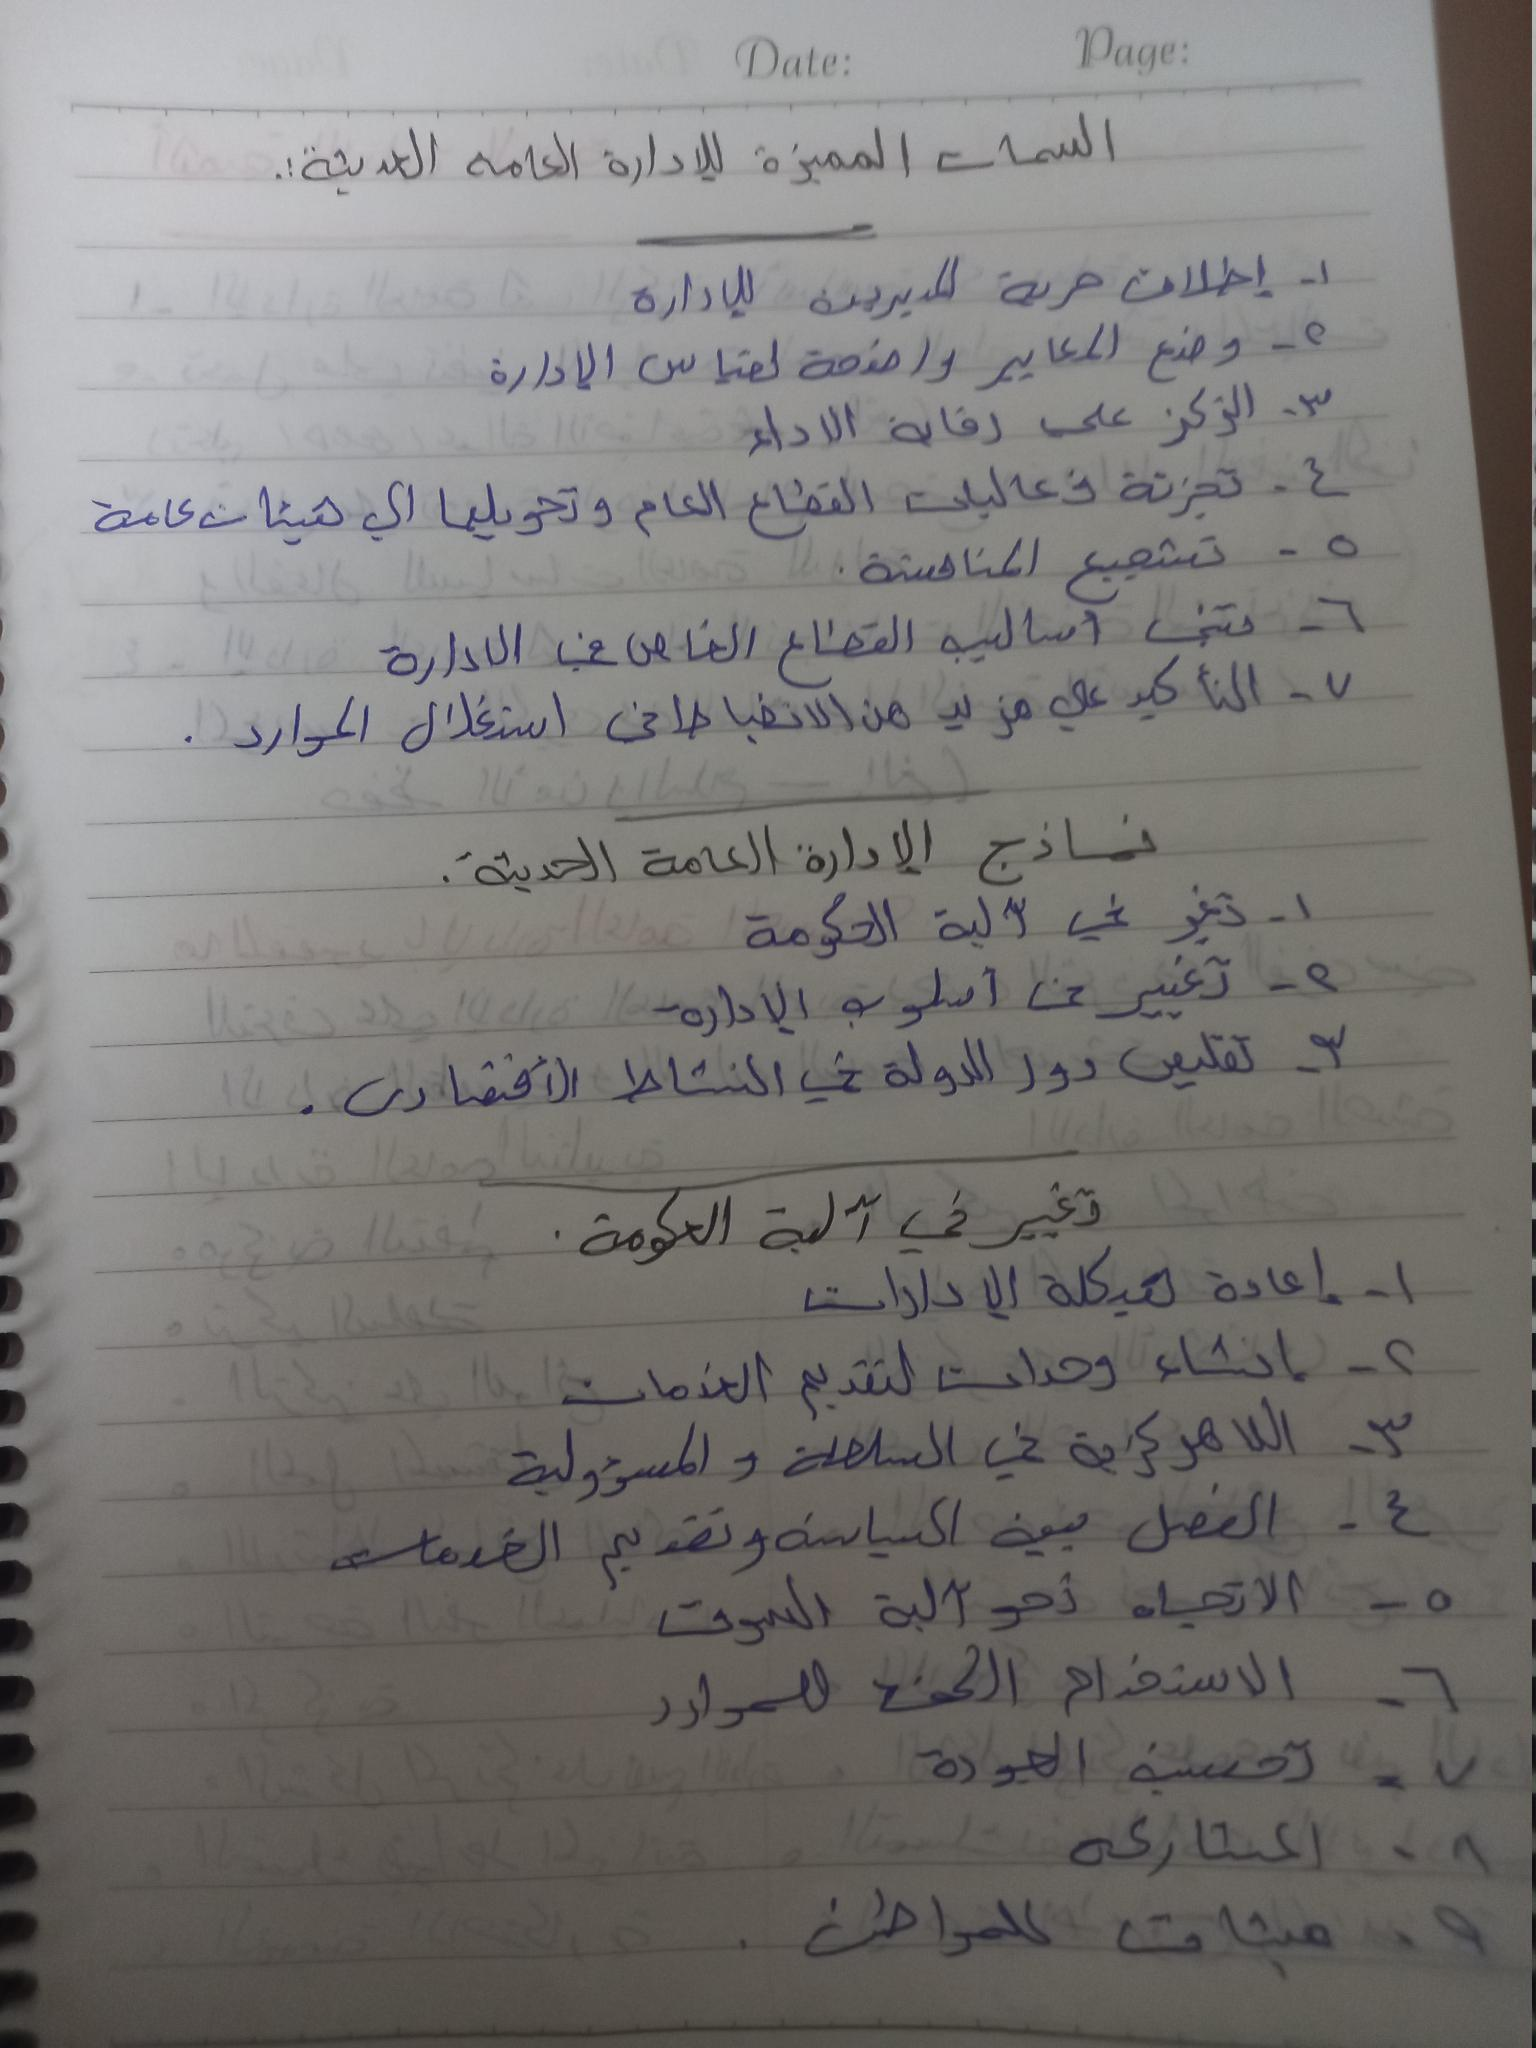19: (892, 1205, 963, 1250), (342, 1069, 399, 1119), (1065, 910, 1128, 942), (978, 1453, 1057, 1477), (800, 1076, 865, 1101), (1037, 410, 1096, 435), (552, 653, 621, 674), (595, 721, 668, 740), (1020, 990, 1084, 1011), (970, 621, 999, 666), (1150, 979, 1179, 1022), (1046, 692, 1079, 729), (360, 508, 402, 534), (1028, 1205, 1057, 1242), (873, 1529, 895, 1563), (1115, 1276, 1131, 1319), (1020, 343, 1037, 381)
21: (1208, 1479, 1238, 1543), (831, 1050, 870, 1082), (941, 1184, 971, 1224), (1007, 1419, 1047, 1450), (632, 692, 663, 726), (1096, 893, 1131, 919), (571, 629, 608, 653), (1052, 976, 1089, 997)
22: (1155, 1345, 1178, 1382), (744, 423, 771, 452), (274, 490, 289, 526)
23: (647, 1584, 731, 1643), (503, 1042, 532, 1100), (684, 1508, 715, 1555), (742, 329, 766, 387), (871, 611, 891, 661), (854, 1358, 876, 1393), (957, 403, 979, 437)
24: (1118, 253, 1170, 305), (1123, 1808, 1154, 1858), (1131, 1405, 1165, 1443), (649, 1185, 679, 1224), (1157, 651, 1181, 692), (1087, 1248, 1113, 1284), (824, 892, 847, 927)
25: (499, 1514, 524, 1572), (1134, 1648, 1160, 1698), (700, 611, 724, 656)
26: (1049, 1180, 1078, 1224), (1170, 953, 1205, 989), (476, 692, 494, 731)
27: (1233, 1637, 1267, 1705), (563, 332, 600, 390), (760, 982, 797, 1039), (534, 1042, 568, 1103), (889, 813, 920, 879), (715, 264, 747, 321), (979, 1264, 1010, 1322), (478, 613, 508, 666), (1179, 250, 1210, 302), (442, 685, 470, 742), (1254, 1567, 1281, 1621), (691, 124, 712, 182), (823, 395, 842, 453), (803, 697, 829, 731)
29: (1113, 1042, 1186, 1082), (624, 616, 666, 669), (1179, 1500, 1208, 1545), (470, 1079, 502, 1106)
30: (1213, 1813, 1267, 1864), (1205, 1332, 1244, 1384), (689, 1056, 733, 1097), (1160, 527, 1197, 568)
31: (558, 1359, 647, 1414), (799, 1277, 887, 1314), (902, 468, 968, 516), (934, 1359, 1028, 1392), (1286, 1724, 1326, 1795), (323, 1535, 407, 1569), (934, 137, 997, 182), (198, 477, 242, 532), (1076, 1172, 1108, 1226), (1220, 458, 1255, 503), (1199, 527, 1236, 568), (1213, 948, 1239, 1001), (1234, 1026, 1263, 1072), (1220, 248, 1242, 298), (1220, 885, 1246, 929), (1168, 1655, 1189, 1701), (715, 1500, 734, 1550), (876, 1355, 895, 1398), (499, 698, 515, 743), (1154, 468, 1175, 502), (568, 476, 581, 529)
32: (662, 682, 716, 740), (826, 601, 862, 658), (620, 1050, 658, 1101), (829, 1424, 860, 1472), (792, 477, 824, 514)
33: (1031, 816, 1054, 868)
34: (1157, 398, 1186, 450), (789, 140, 812, 189), (995, 689, 1013, 748)
Alef: (941, 1567, 976, 1638), (1096, 110, 1134, 164), (1312, 1235, 1339, 1309), (1004, 889, 1036, 948), (549, 681, 578, 743), (752, 1340, 776, 1413), (1275, 1327, 1305, 1380), (437, 1047, 463, 1106), (1178, 1326, 1205, 1379), (1063, 806, 1087, 866), (895, 121, 918, 184), (833, 822, 858, 871), (813, 1580, 837, 1632), (1309, 1821, 1333, 1872), (1249, 244, 1273, 293), (992, 129, 1023, 168), (760, 819, 781, 876), (1279, 1648, 1299, 1706), (1005, 1648, 1023, 1708), (981, 963, 1002, 1013), (744, 611, 760, 672), (978, 1034, 997, 1082), (700, 839, 726, 874), (1244, 371, 1262, 423), (432, 481, 450, 532), (904, 611, 921, 661), (949, 1495, 965, 1546), (440, 624, 455, 681), (645, 127, 662, 177), (1107, 321, 1126, 361), (1249, 650, 1263, 701), (552, 1508, 565, 1563), (287, 695, 302, 742), (407, 472, 418, 532), (1267, 1477, 1276, 1546), (944, 1419, 957, 1471), (913, 331, 926, 382), (515, 614, 526, 672), (668, 1051, 684, 1092), (428, 129, 440, 177), (721, 1193, 733, 1248), (1023, 600, 1034, 650), (679, 271, 692, 311), (1046, 334, 1058, 368)
Alef Bkasra: (1249, 1737, 1286, 1784), (1021, 1577, 1055, 1622), (1058, 1347, 1092, 1384), (1076, 260, 1105, 297), (839, 340, 862, 385), (555, 843, 582, 880), (849, 914, 871, 950), (682, 1213, 702, 1245)
Baa: (847, 1185, 873, 1245)
Daa: (836, 989, 889, 1021), (1125, 1763, 1179, 1793), (937, 621, 973, 663), (1060, 1508, 1091, 1555), (741, 713, 757, 747), (923, 411, 936, 448)
Eiin: (934, 1272, 968, 1316), (229, 718, 261, 748), (957, 1743, 979, 1784), (650, 1687, 671, 1727), (410, 1072, 428, 1118), (658, 148, 684, 179), (1078, 1047, 1097, 1087), (544, 355, 565, 390), (463, 1542, 486, 1574), (860, 837, 879, 872), (655, 1529, 678, 1558), (460, 640, 476, 681), (791, 414, 810, 447), (736, 992, 753, 1026), (695, 282, 712, 314), (1246, 1276, 1263, 1305), (371, 147, 387, 177), (1037, 1364, 1055, 1392), (695, 1379, 713, 1403), (1125, 689, 1144, 710), (916, 282, 929, 305)
Five: (868, 331, 900, 377), (1176, 323, 1208, 361), (752, 687, 776, 729)
Four: (779, 622, 813, 690), (1065, 540, 1099, 600), (747, 487, 776, 540), (1142, 335, 1176, 381), (173, 481, 195, 527), (1108, 397, 1137, 432), (1089, 669, 1112, 708), (681, 489, 702, 521), (726, 842, 745, 874), (537, 148, 560, 176), (1283, 1261, 1299, 1295), (1060, 332, 1076, 361)
Haa: (983, 829, 1026, 885), (1125, 526, 1149, 584), (1194, 472, 1217, 519)
Lam: (1136, 1263, 1184, 1309), (310, 481, 340, 532), (461, 492, 476, 535)
Meem: (1126, 1596, 1157, 1629)
Noon: (1128, 1488, 1176, 1553), (403, 695, 437, 756), (925, 1487, 950, 1550), (812, 1653, 836, 1711), (894, 1335, 913, 1400), (770, 327, 789, 385), (744, 824, 765, 876), (558, 1419, 574, 1485), (921, 1574, 942, 1621), (926, 963, 945, 1013), (787, 1666, 812, 1705), (482, 468, 499, 526), (405, 124, 421, 181), (382, 469, 402, 514), (892, 598, 902, 666), (873, 126, 887, 168), (1087, 392, 1104, 427), (1249, 1480, 1255, 1553)
Raa: (883, 684, 913, 735), (1063, 1658, 1092, 1711), (797, 1367, 823, 1422), (597, 1535, 621, 1593), (1196, 1409, 1225, 1455), (749, 1687, 784, 1722), (632, 485, 655, 539), (1104, 839, 1137, 872), (134, 495, 160, 531), (676, 847, 702, 879), (789, 914, 812, 948), (437, 1535, 461, 1564), (671, 1372, 691, 1405), (676, 1455, 700, 1480), (624, 1226, 647, 1253), (826, 140, 844, 173), (1033, 132, 1047, 171), (505, 158, 528, 182), (1018, 687, 1028, 729), (850, 148, 868, 171), (1086, 347, 1104, 369), (1000, 563, 1023, 579)
Seen: (992, 1500, 1052, 1548), (1123, 811, 1173, 853), (812, 284, 857, 316), (750, 687, 778, 731), (862, 689, 886, 734), (1060, 1561, 1078, 1621), (779, 695, 803, 735), (973, 535, 995, 576)
Taa Marbota: (1099, 979, 1141, 1024), (981, 1211, 1020, 1250), (1171, 906, 1199, 947), (984, 348, 1005, 397), (1016, 1048, 1034, 1098), (1176, 1432, 1197, 1472), (1049, 284, 1071, 319), (984, 408, 1004, 448), (1162, 1834, 1179, 1877), (899, 1285, 916, 1322), (626, 152, 642, 182), (708, 998, 718, 1037)
Waw: (636, 339, 700, 390), (1176, 1740, 1238, 1787), (891, 1511, 925, 1555), (1049, 127, 1086, 164), (1192, 1658, 1229, 1695), (826, 1514, 857, 1556), (634, 1447, 670, 1482), (515, 708, 549, 745), (1041, 610, 1073, 648), (762, 1593, 794, 1629), (889, 1438, 920, 1474), (908, 540, 934, 582), (945, 974, 975, 1008)
Yaa: (579, 1201, 623, 1258), (758, 1197, 799, 1256), (850, 535, 892, 590), (868, 1587, 912, 1634), (499, 1445, 547, 1487), (452, 848, 495, 893), (89, 487, 129, 532), (1075, 1829, 1112, 1875), (995, 263, 1034, 306), (744, 905, 779, 951), (379, 635, 419, 676), (636, 842, 678, 880), (778, 1508, 810, 1558), (913, 1745, 957, 1780), (1070, 1426, 1104, 1471), (663, 997, 705, 1032), (1039, 1269, 1075, 1311), (787, 1435, 821, 1477), (1205, 1264, 1241, 1303), (933, 905, 966, 945), (886, 406, 916, 450), (879, 1056, 915, 1092), (800, 347, 831, 385), (1121, 463, 1149, 505), (482, 348, 511, 385), (755, 137, 781, 176), (794, 840, 823, 872), (631, 282, 658, 316), (465, 147, 489, 184), (605, 142, 631, 176)
Zero: (736, 1519, 770, 1574), (728, 1435, 757, 1490), (1092, 1347, 1121, 1395), (987, 1593, 1020, 1635), (1212, 332, 1250, 366), (887, 997, 923, 1030), (1037, 1059, 1068, 1095), (589, 490, 616, 529), (739, 1606, 765, 1646), (520, 503, 547, 540), (574, 1461, 599, 1501), (933, 343, 955, 384), (720, 1700, 747, 1732), (933, 1063, 957, 1098), (300, 727, 321, 766), (995, 1758, 1018, 1788), (821, 932, 842, 964), (650, 1237, 668, 1264)
